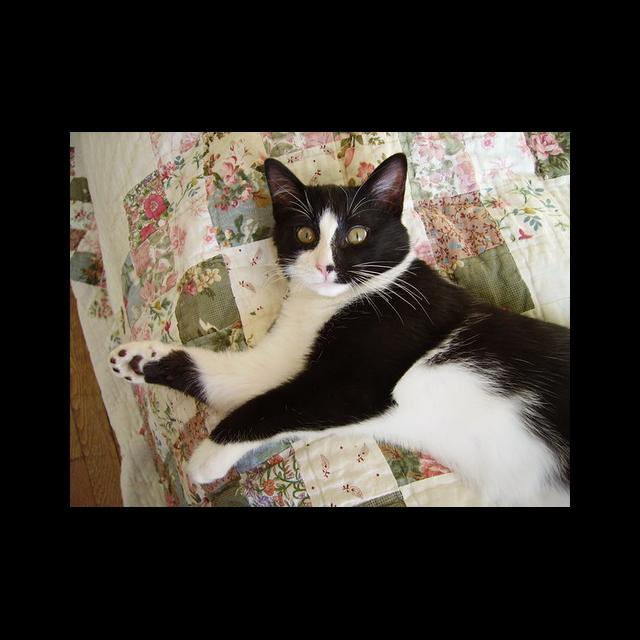animals: (268, 154, 403, 276)
